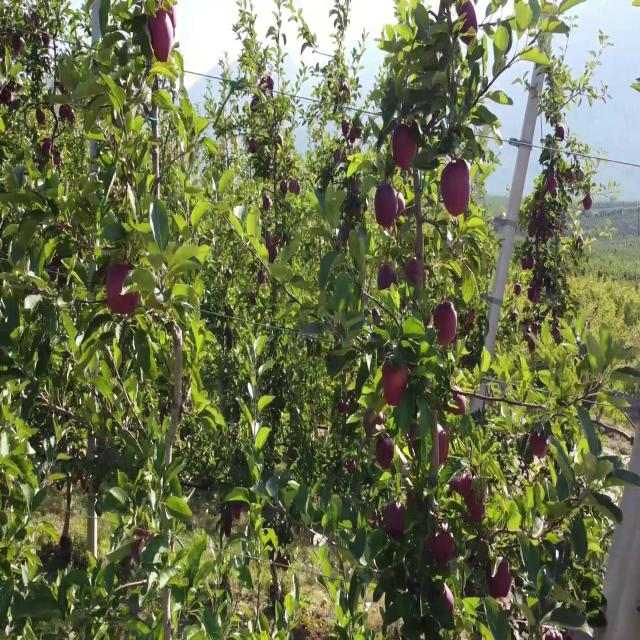apple: (108, 263, 140, 320), (440, 163, 472, 220), (148, 7, 173, 55), (392, 127, 419, 171), (384, 362, 408, 407), (148, 21, 173, 64), (488, 561, 512, 603), (436, 305, 457, 348), (376, 184, 396, 229), (384, 504, 407, 540), (432, 533, 456, 567), (464, 490, 485, 526), (460, 7, 479, 44), (132, 533, 154, 564), (364, 412, 385, 441), (404, 263, 428, 288), (376, 440, 396, 469), (448, 391, 468, 420), (380, 263, 397, 292), (436, 433, 450, 468), (532, 433, 548, 462), (464, 497, 480, 526), (452, 476, 473, 498), (152, 42, 172, 64), (268, 234, 283, 263), (348, 206, 362, 236), (344, 120, 361, 142), (344, 120, 360, 142), (408, 426, 421, 453), (528, 284, 542, 306), (444, 590, 456, 615), (60, 106, 76, 124), (164, 7, 176, 30), (344, 120, 356, 142), (36, 106, 47, 128), (156, 49, 172, 64), (12, 35, 22, 57), (548, 177, 559, 196), (524, 255, 535, 272), (248, 142, 258, 156), (292, 184, 301, 199), (556, 127, 565, 142), (584, 199, 593, 213), (348, 462, 357, 476), (44, 142, 53, 156), (264, 199, 272, 213), (340, 398, 347, 412), (280, 184, 288, 194)
